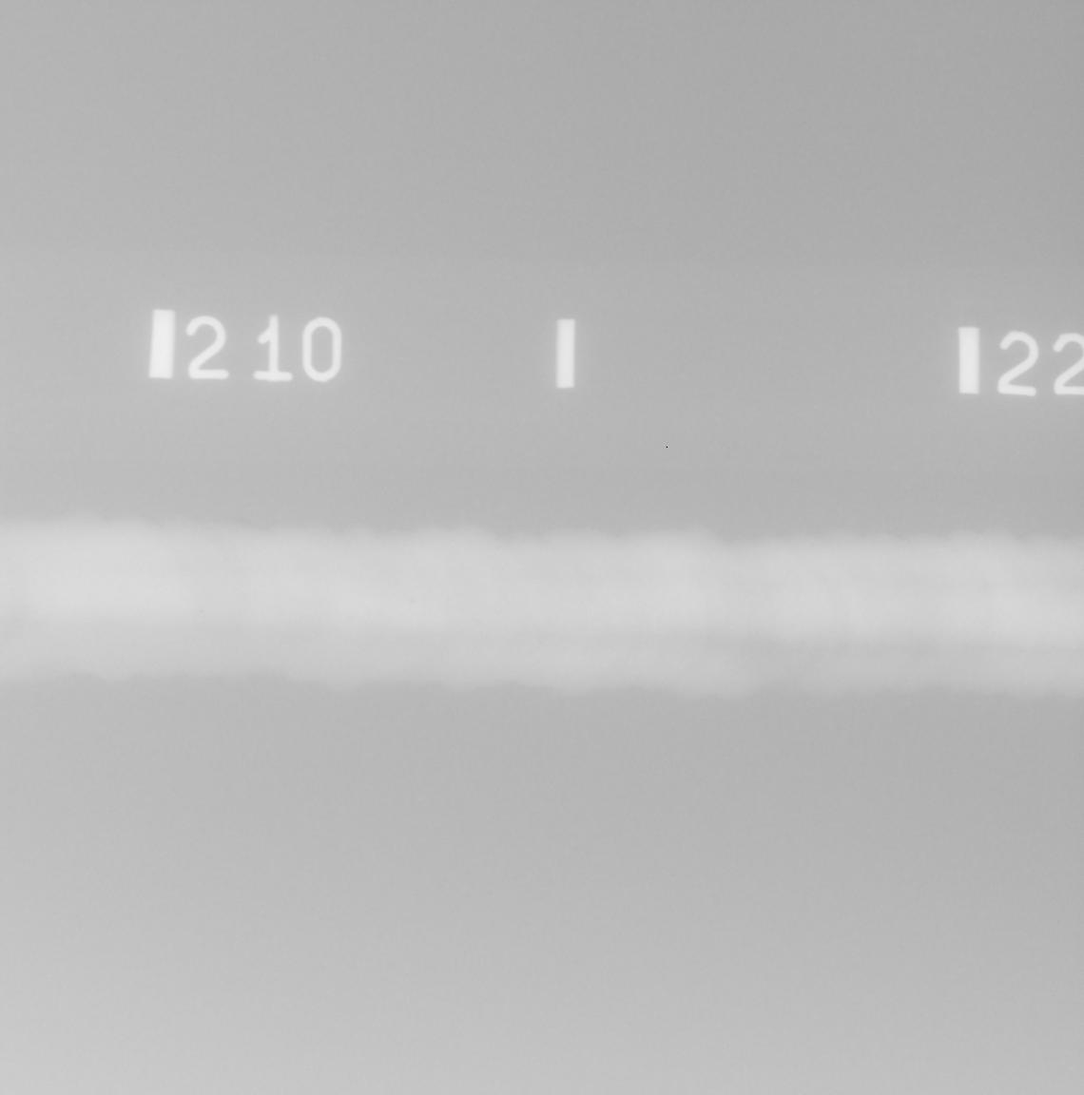Pore/Porosity: (408, 598, 417, 604), (475, 619, 482, 625), (36, 620, 40, 626), (446, 598, 452, 602), (199, 609, 204, 613), (347, 616, 352, 620), (652, 608, 656, 611)
Undercut: (232, 516, 249, 523)
